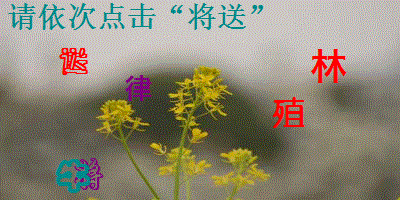result: (187, 1, 248, 31)
text: (309, 46, 348, 85), (53, 157, 92, 195), (270, 95, 307, 130), (74, 158, 105, 191), (124, 74, 156, 104), (59, 46, 90, 76)
